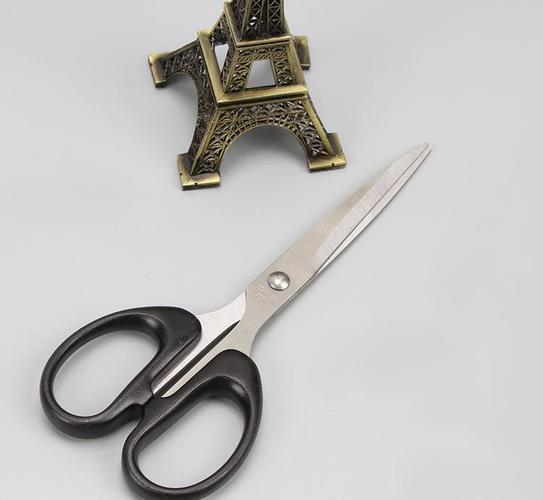scissor: (38, 141, 437, 500)
